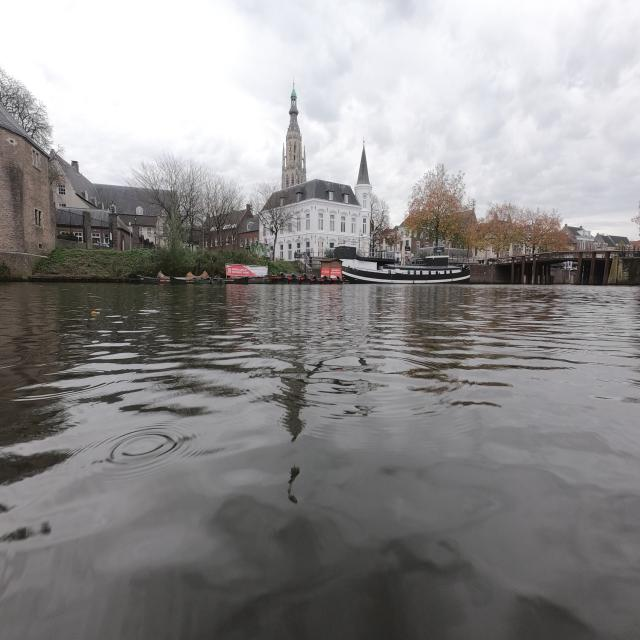boat: (344, 256, 470, 284)
grass: (20, 248, 206, 278)
sky: (4, 8, 638, 236)
wall: (0, 102, 56, 274), (604, 254, 640, 285)
water: (10, 290, 638, 634)
